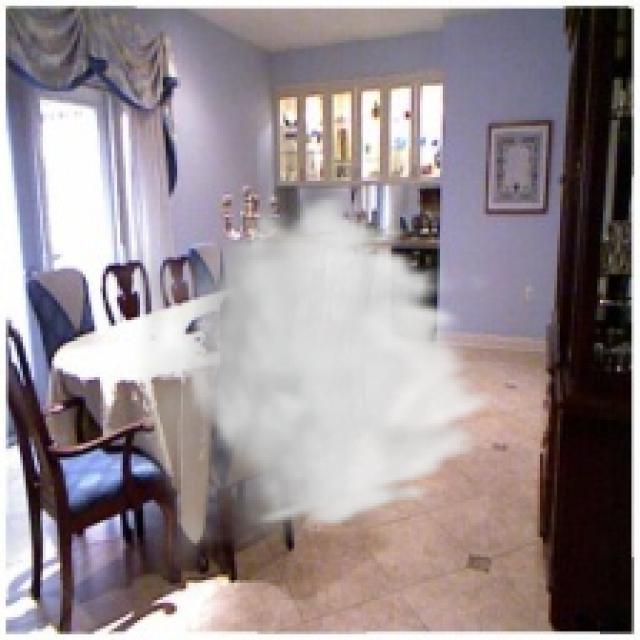smoke: (108, 191, 503, 600)
